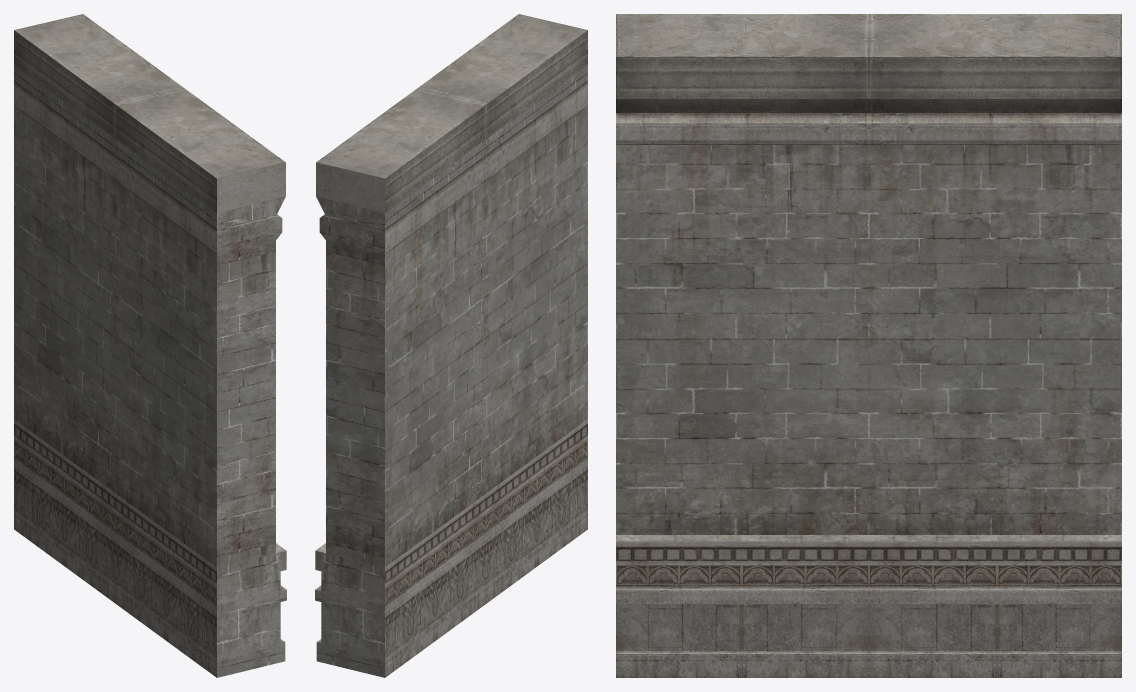
The model's file is bg_lut_lucastle_librarywall01_sm_ysi.FBX.
The picture shows the model from 3 angles, left to right: view 1: azimuth 30°, elevation 25°; view 2: azimuth 150°, elevation 25°; view 3: azimuth 270°, elevation 25°; orthographic projection. The views are drawn at different scales.
Visible parts, largest first — view 1: bg_lut_lucastle_librarywall01_sm_ysi; view 2: bg_lut_lucastle_librarywall01_sm_ysi; view 3: bg_lut_lucastle_librarywall01_sm_ysi.
Part boxes in pixels (left/top/right/bottom): bg_lut_lucastle_librarywall01_sm_ysi: left=14, top=14, right=286, bottom=677; bg_lut_lucastle_librarywall01_sm_ysi: left=315, top=14, right=587, bottom=677; bg_lut_lucastle_librarywall01_sm_ysi: left=616, top=14, right=1121, bottom=677.
Bounding box in the file's own units: 76.53 × 521 × 384.
